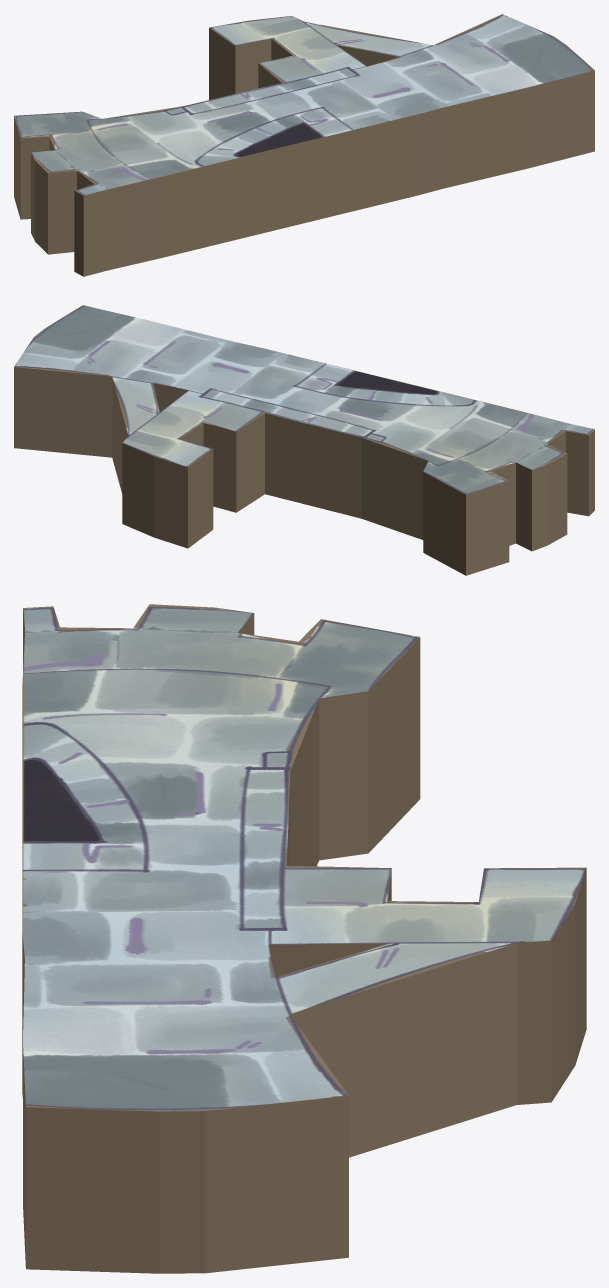
File: CastilloL.fbx
3 views of the same model, one above another, from view 1: azimuth 30°, elevation 25°; view 2: azimuth 150°, elevation 25°; view 3: azimuth 270°, elevation 25° (orthographic). The views are drawn at different scales.
Parts seen in each view (by area): view 1: Cube.003; view 2: Cube.003; view 3: Cube.003.
Part boxes in pixels (x1,y1,x2,y2): Cube.003: (14, 14, 594, 276); Cube.003: (14, 305, 594, 575); Cube.003: (22, 604, 586, 1273).
Bounding box in the file's own units: 462 × 68.85 × 217.
